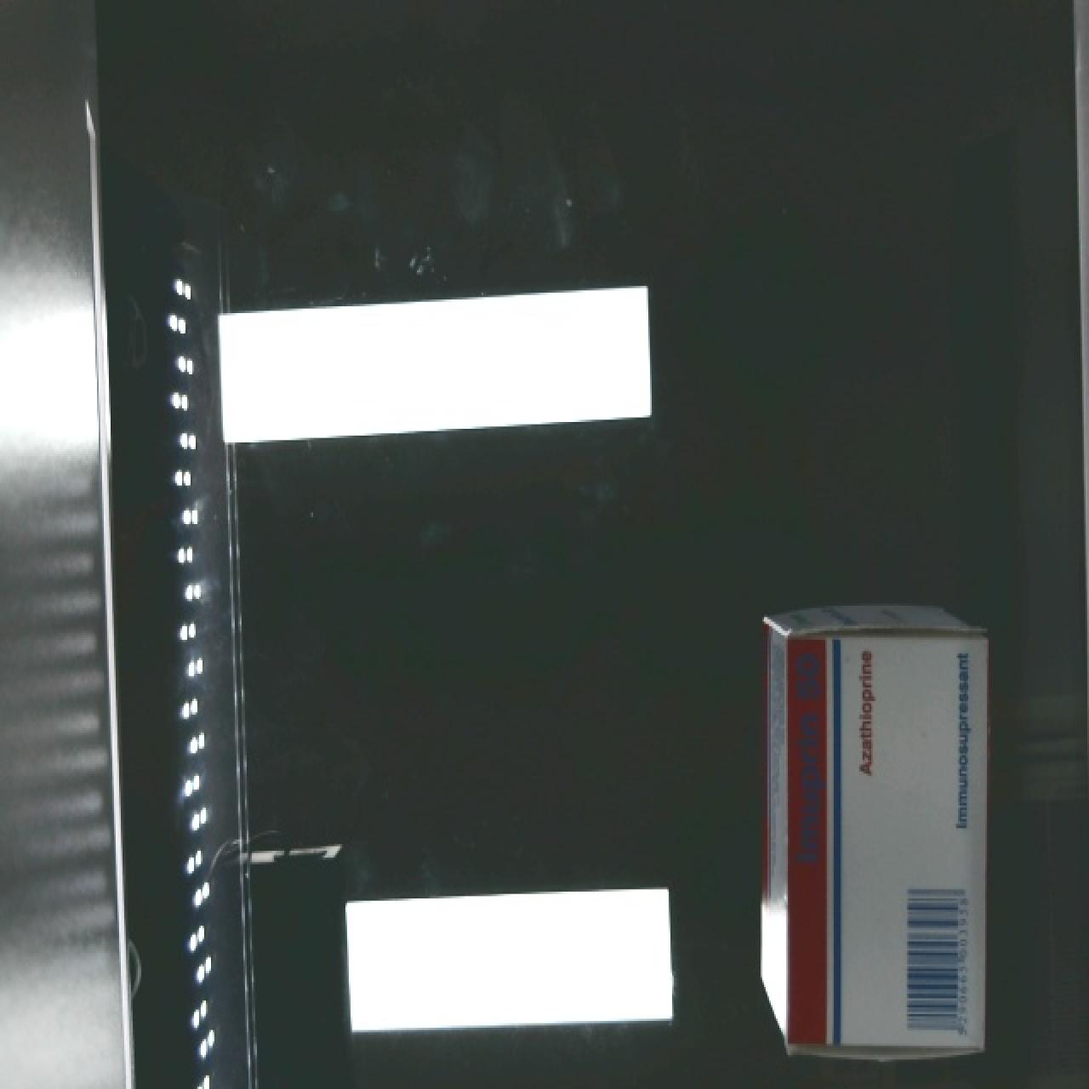medicine_label_obb: (785, 631, 843, 882)
